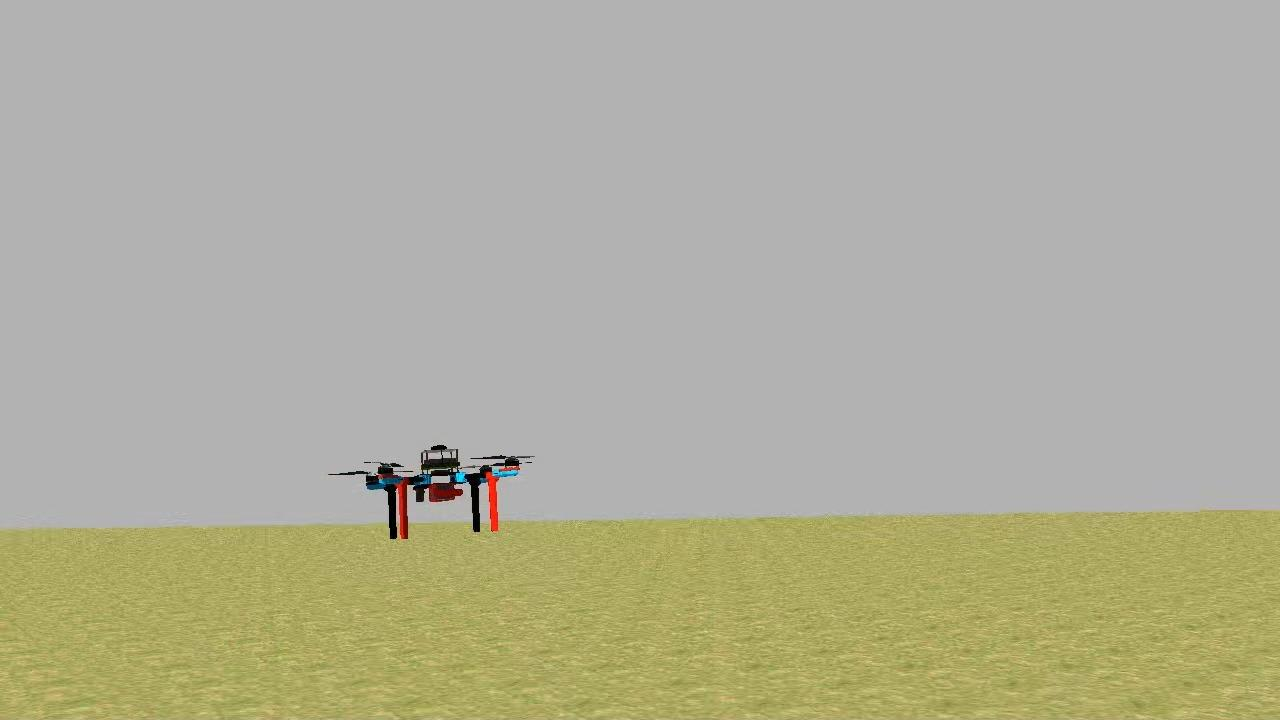UAV: (356, 440, 526, 547)
